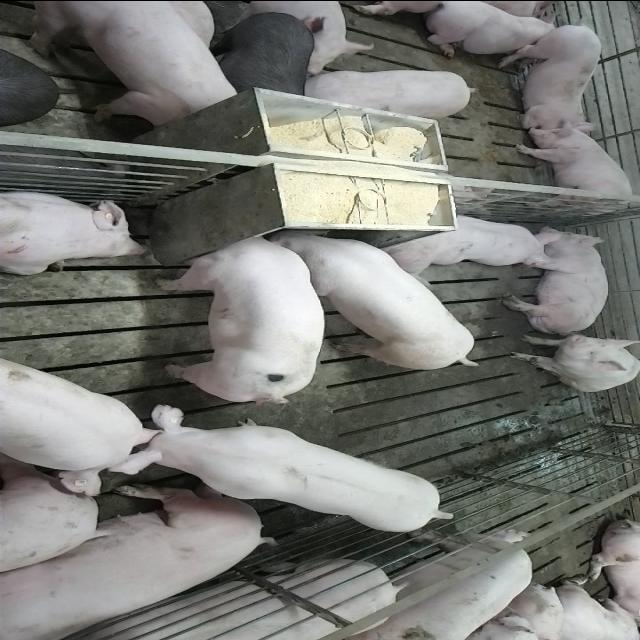Feeding: (154, 232, 328, 408), (272, 228, 480, 375)
Lateral_lying: (0, 481, 273, 636), (501, 224, 611, 336)
Sitting: (506, 330, 638, 391)
Standing: (107, 402, 454, 532), (9, 555, 411, 640), (13, 1, 245, 124), (0, 354, 160, 498), (334, 530, 539, 640), (509, 120, 636, 210), (308, 64, 480, 117), (216, 10, 318, 96)
Sternal_lying: (0, 187, 150, 274), (377, 208, 558, 274), (424, 1, 566, 56)
